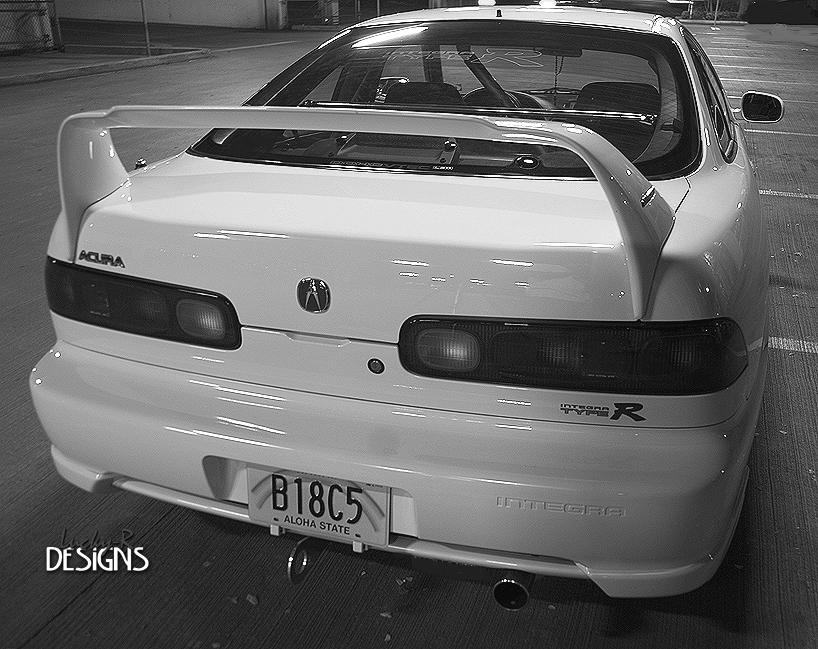car: (25, 1, 786, 634)
